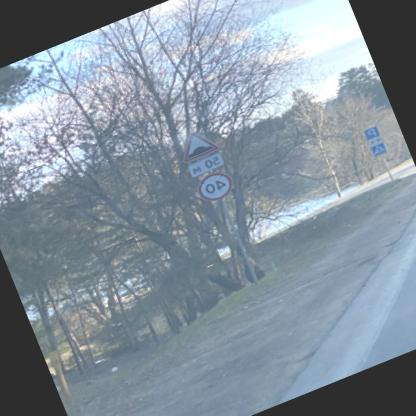crosswalk: (370, 140, 388, 156)
speedlimit: (194, 166, 236, 203)
